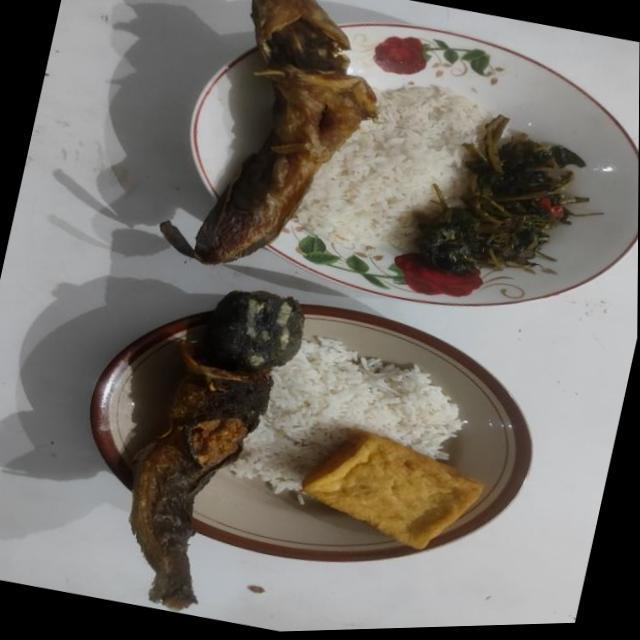nasi_putih: (228, 336, 466, 494), (292, 85, 489, 248)
tahu_goreng: (302, 431, 484, 548)
tumis_kangkung: (416, 115, 588, 274)
